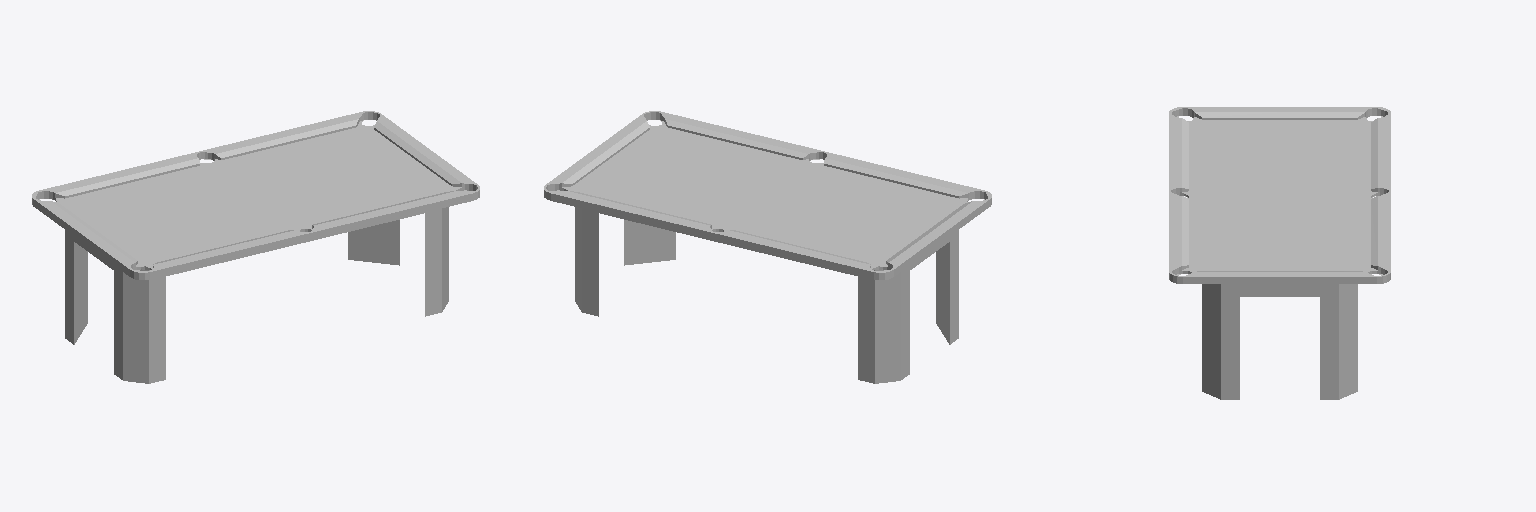
The model's file is table_small [full].obj.
3 renders of one model, left to right at view 1: azimuth 30°, elevation 25°; view 2: azimuth 150°, elevation 25°; view 3: azimuth 270°, elevation 25°, orthographic.
Parts seen in each view (by area): view 1: table_Cube, legs_Cube.003; view 2: table_Cube, legs_Cube.003; view 3: table_Cube, legs_Cube.003.
Boxes of the visible parts, box(x1,y1,x2,y2) form: table_Cube: box(32, 111, 479, 279); legs_Cube.003: box(65, 207, 448, 383); table_Cube: box(544, 111, 991, 279); legs_Cube.003: box(575, 207, 958, 383); table_Cube: box(1169, 107, 1390, 283); legs_Cube.003: box(1202, 284, 1357, 399).
Bounding box in the file's own units: 2.12 × 0.7437 × 1.17.